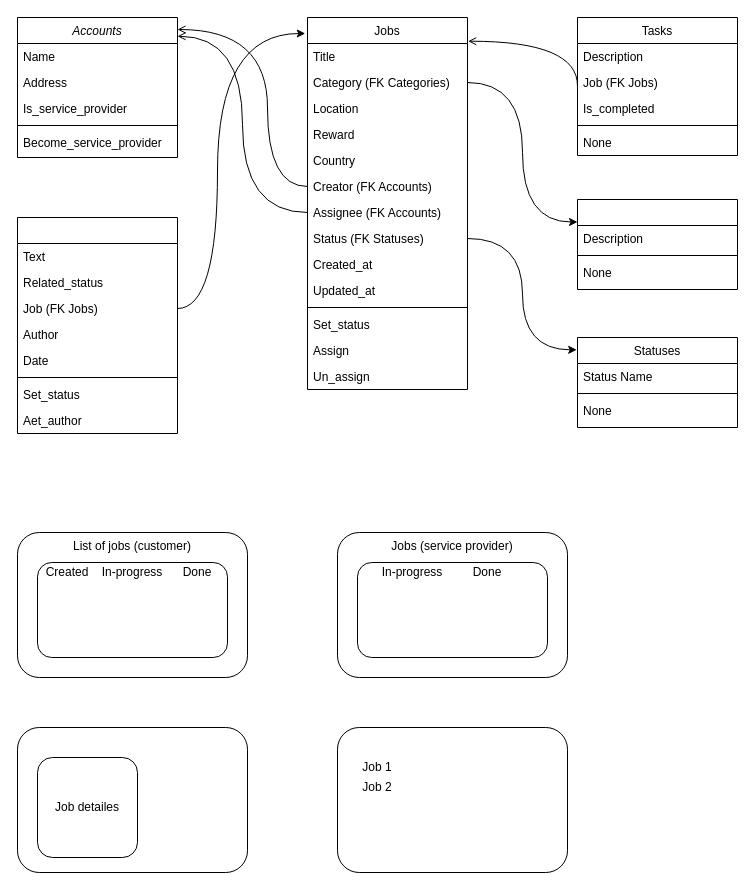
Image size: 755x890. Some labels were removed from this diagram. Here are the shapes that lost their labels. From the top down, the box of each, then its label:
(576, 198, 738, 290): Categories
(16, 216, 178, 434): Comments
(16, 726, 248, 872): View Job
(336, 726, 568, 872): All jobs
